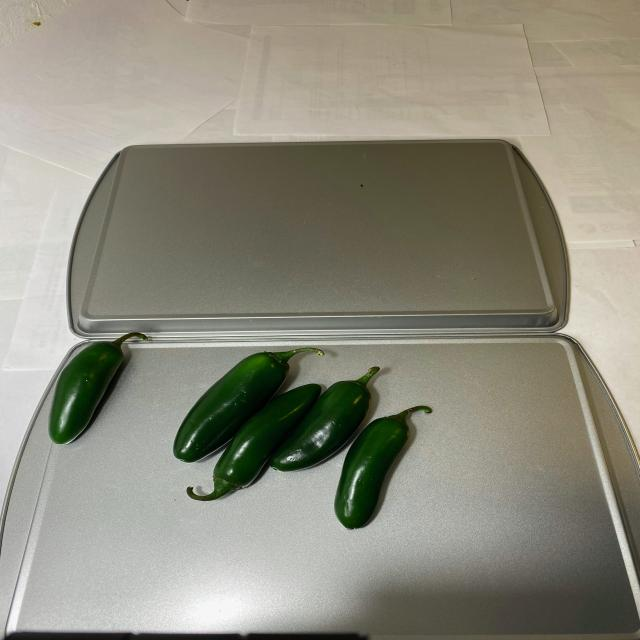chilli: (53, 328, 443, 534)
